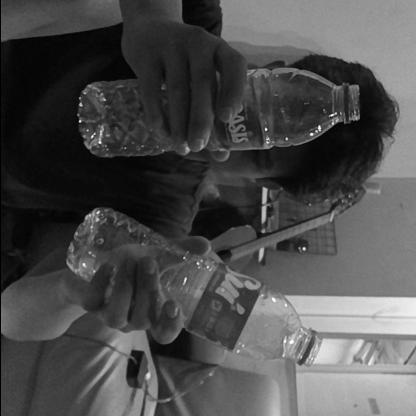plastic_bottles: (64, 206, 320, 368), (74, 66, 362, 158)
